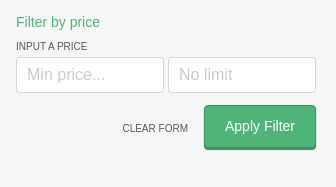
Scenario: Price Range Menu Component › should clear the form on clicking the reset button
In the field with placeholder "Min price...": (90, 75) [25,58,155,92], type "130"
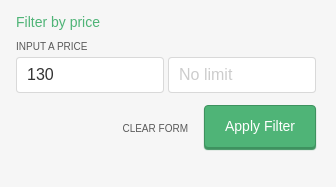
In the field with placeholder "No limit": (242, 75) [177,58,307,92], type "120"
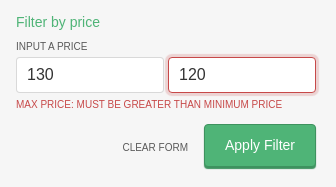
Click the link with test id "price-range-menu-reset": (155, 147) [122,142,188,152]
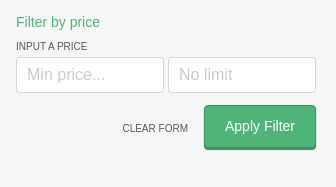
Check: the field with placeholder "Min price..." is empty, box [25,58,155,92]
Check: the field with placeholder "No limit" is empty, box [177,58,307,92]
